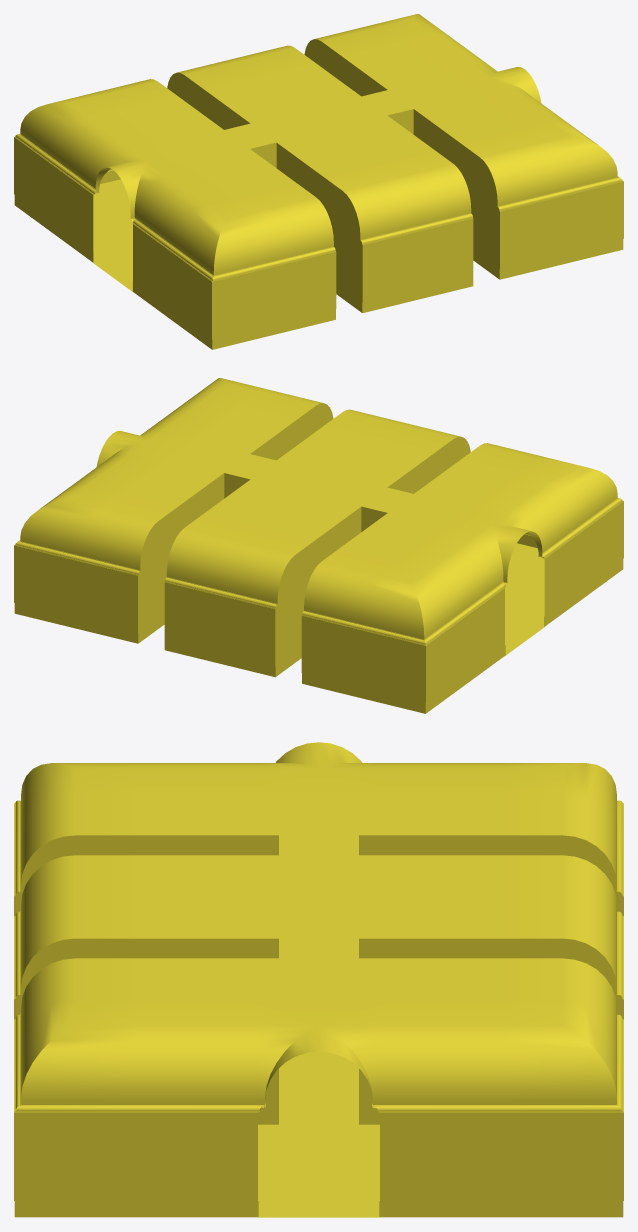
The model's file is Arena3.fbx.
The picture shows the model from 3 angles, top to bottom: view 1: azimuth 30°, elevation 25°; view 2: azimuth 150°, elevation 25°; view 3: azimuth 270°, elevation 25°; orthographic projection. The views are drawn at different scales.
Visible parts, largest first — view 1: Grande salle var2; view 2: Grande salle var2; view 3: Grande salle var2.
Part boxes in pixels (x1,y1,x2,y2): Grande salle var2: (14, 14, 623, 349); Grande salle var2: (14, 378, 623, 713); Grande salle var2: (14, 742, 623, 1217).
Size of the model in its own units: 4800 by 1202 by 4000.
